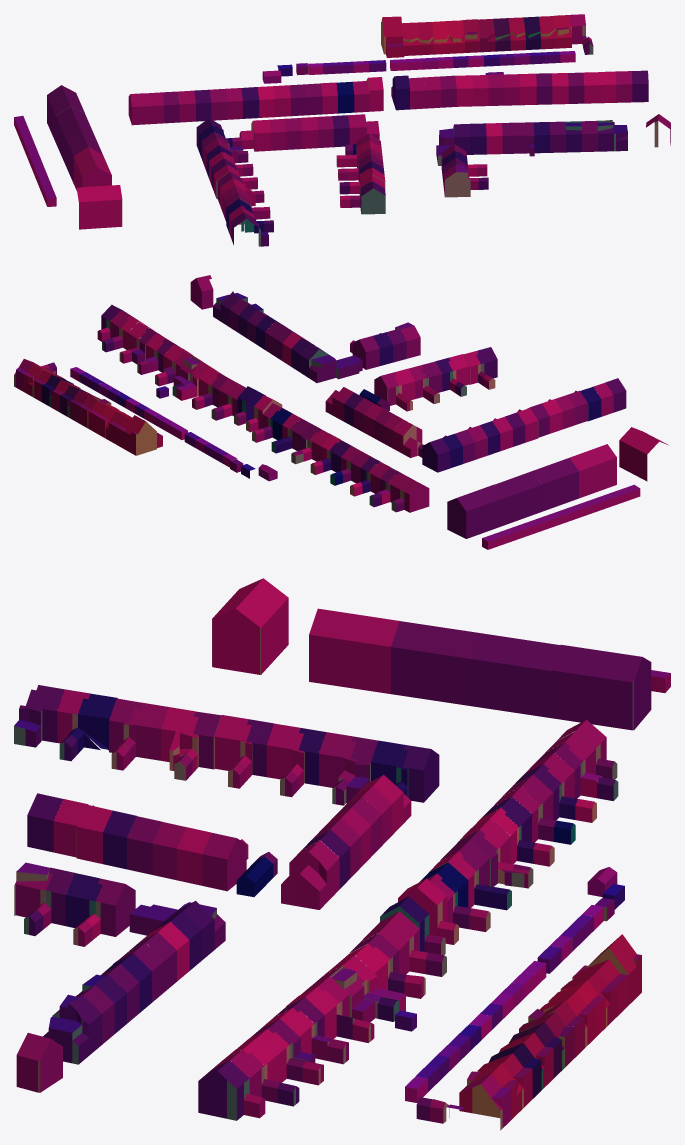
The model's file is buildings_13_14.glb.
3 renders of one model, top to bottom at view 1: azimuth 30°, elevation 25°; view 2: azimuth 150°, elevation 25°; view 3: azimuth 270°, elevation 25°, orthographic. The views are drawn at different scales.
Visible parts, largest first — view 1: buildings_13_14; view 2: buildings_13_14; view 3: buildings_13_14.
Part boxes in pixels (x1,y1,x2,y2): buildings_13_14: [14, 14, 670, 246]; buildings_13_14: [14, 275, 668, 549]; buildings_13_14: [14, 578, 670, 1130].
Bounding box in the file's own units: 205 × 12.27 × 115.
